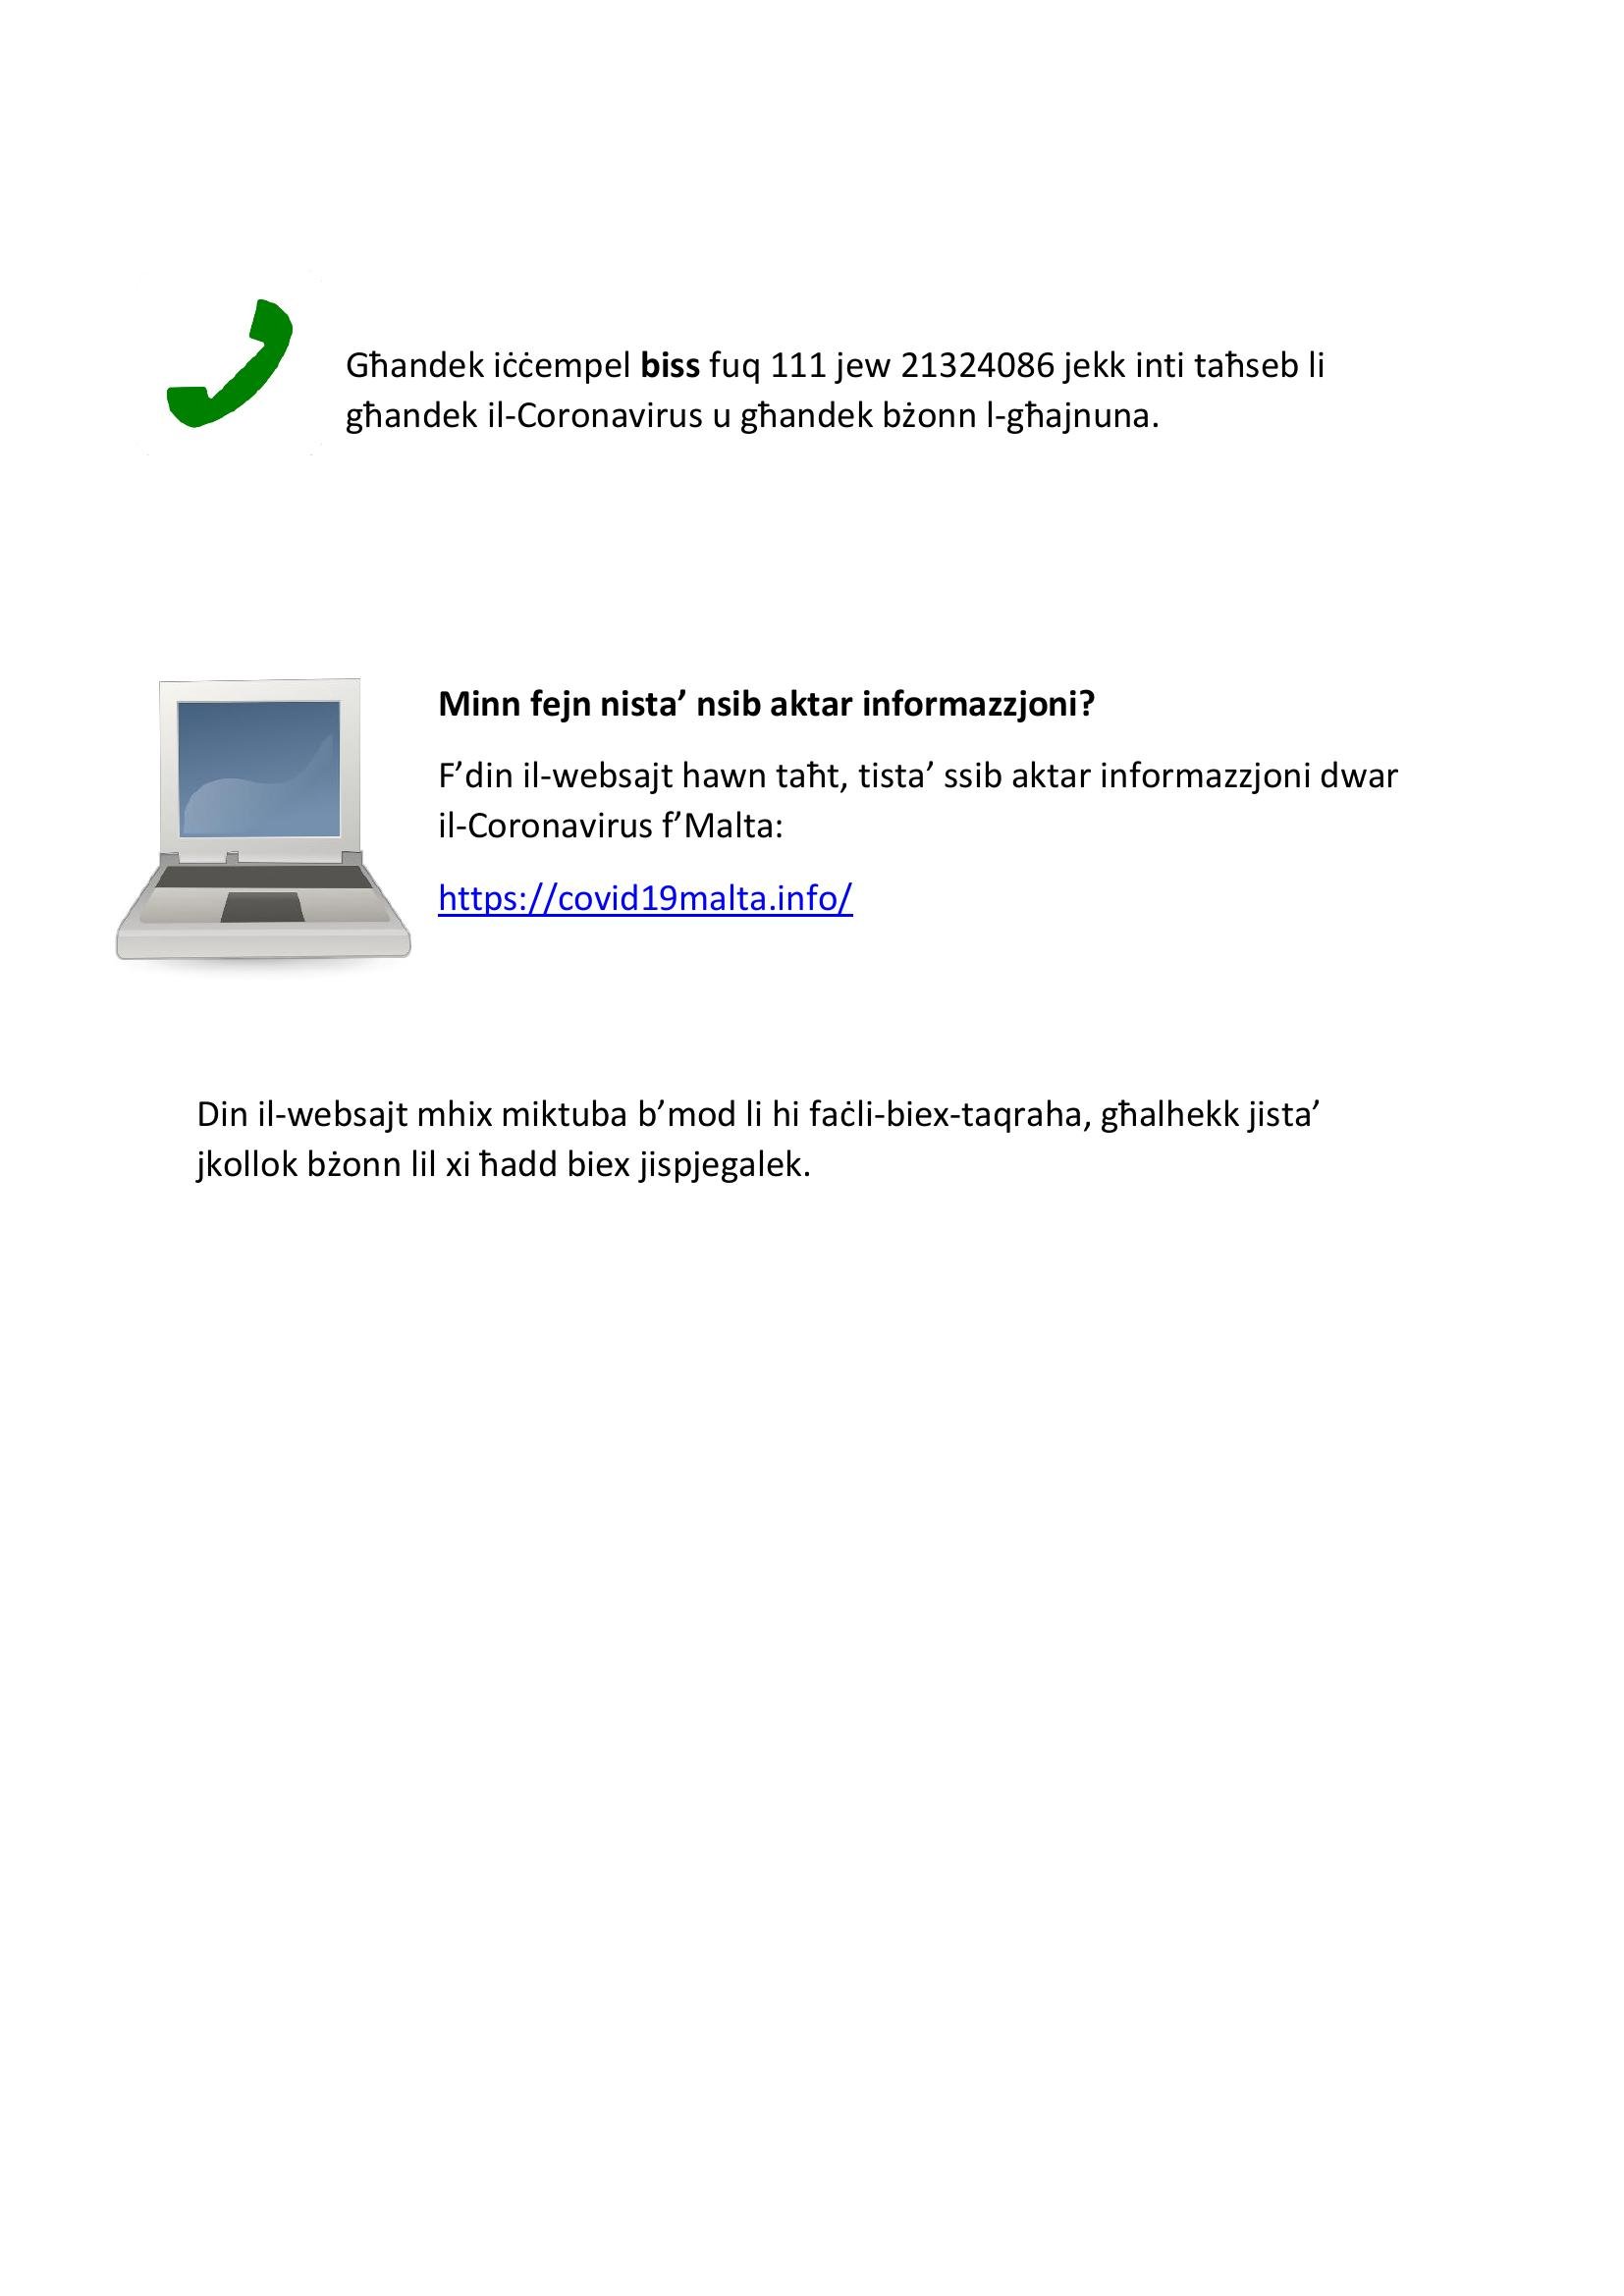text: (408, 655, 1420, 935), (165, 1070, 1341, 1209), (320, 316, 1353, 457)
